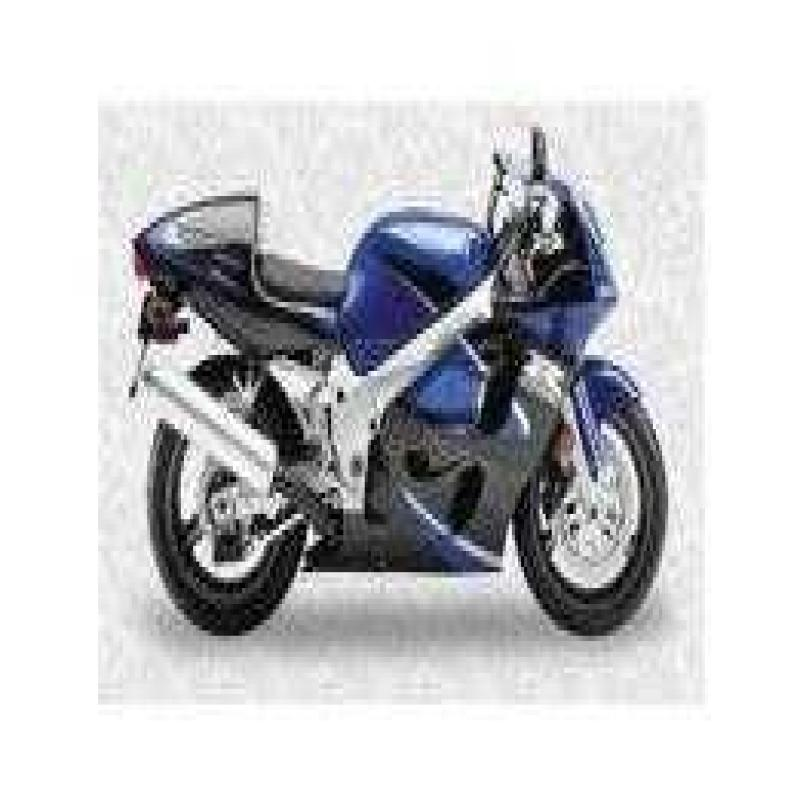bike: (123, 108, 668, 658)
